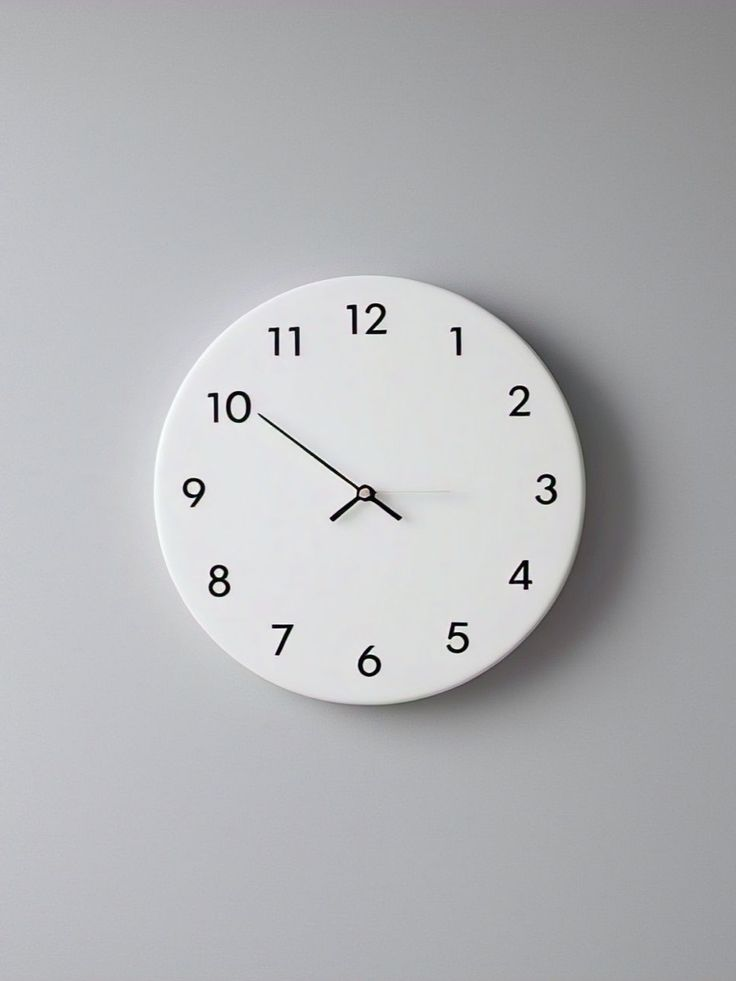clock: (101, 183, 657, 815)
